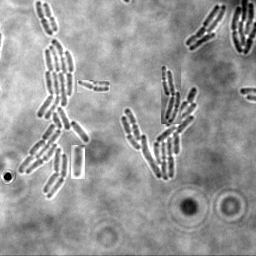Dividing: (34, 1, 52, 37), (41, 3, 57, 33), (71, 145, 85, 179), (77, 80, 110, 93)
Microcolony: (18, 40, 89, 199), (120, 87, 197, 181), (184, 5, 226, 52), (230, 1, 255, 56), (161, 65, 181, 124)
